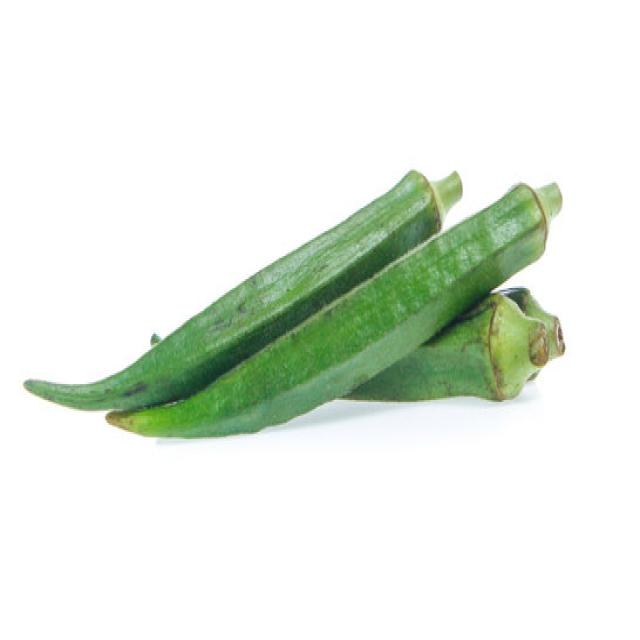Okra: (104, 176, 563, 439), (340, 284, 565, 402)
